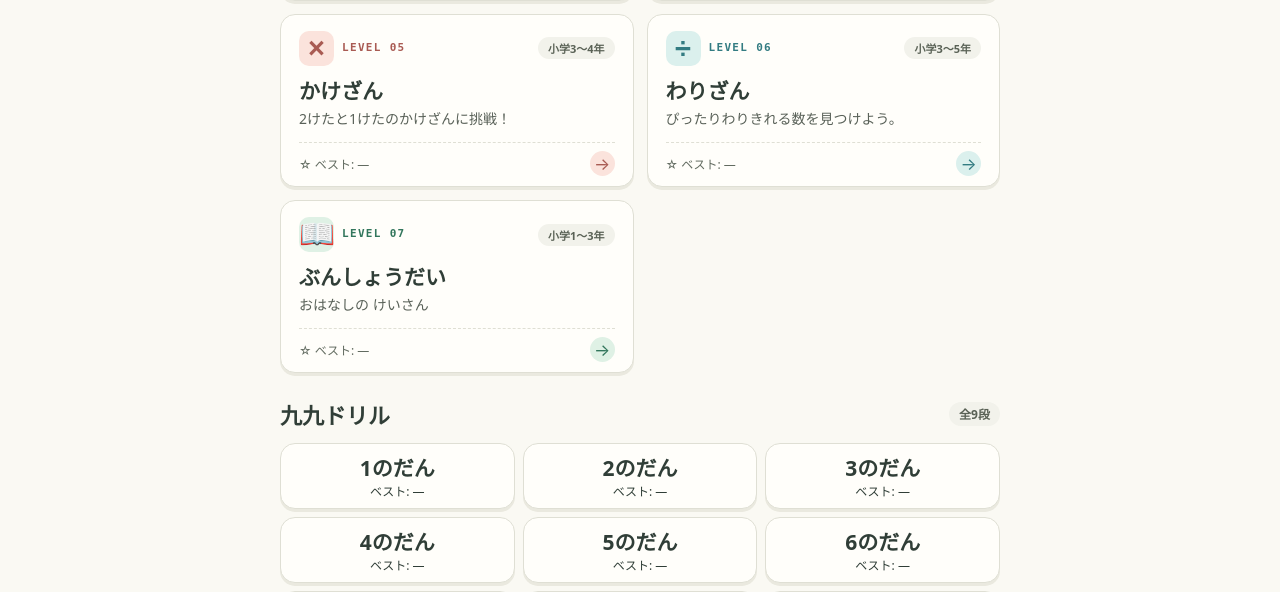
it: answers an easy word problem from the home screen
(page scrolled)
Click the button "📖 LEVEL 07 小学1〜3年 ぶんしょうだい おはなしの けいさん ☆ ベスト: — →" at (316, 234), box [280, 200, 634, 373]
(page scrolled)
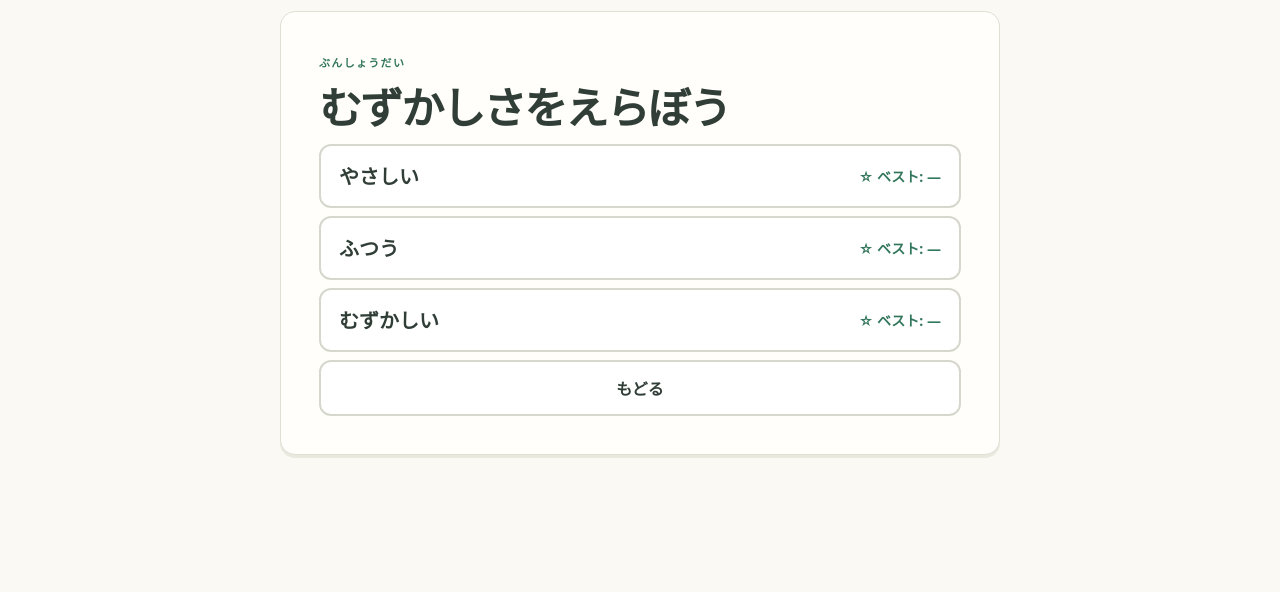
Click the button "やさしい ☆ ベスト: —" at (379, 177), box [319, 144, 961, 208]
(page scrolled)
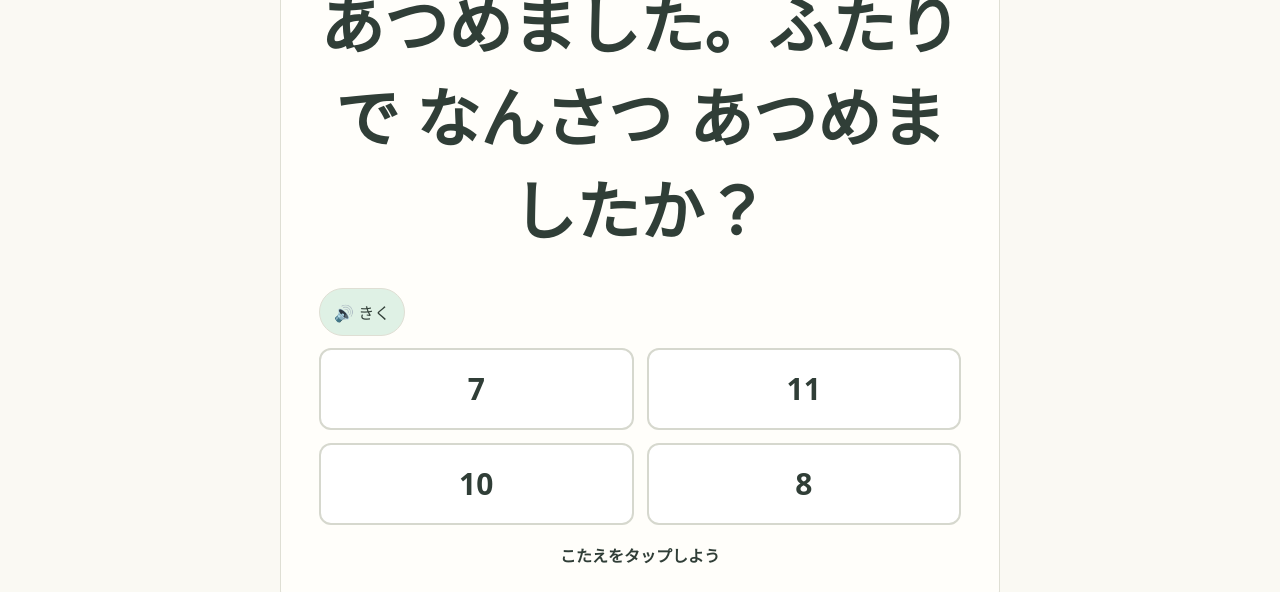
Click the button "8" at (804, 484), box [646, 443, 961, 525]
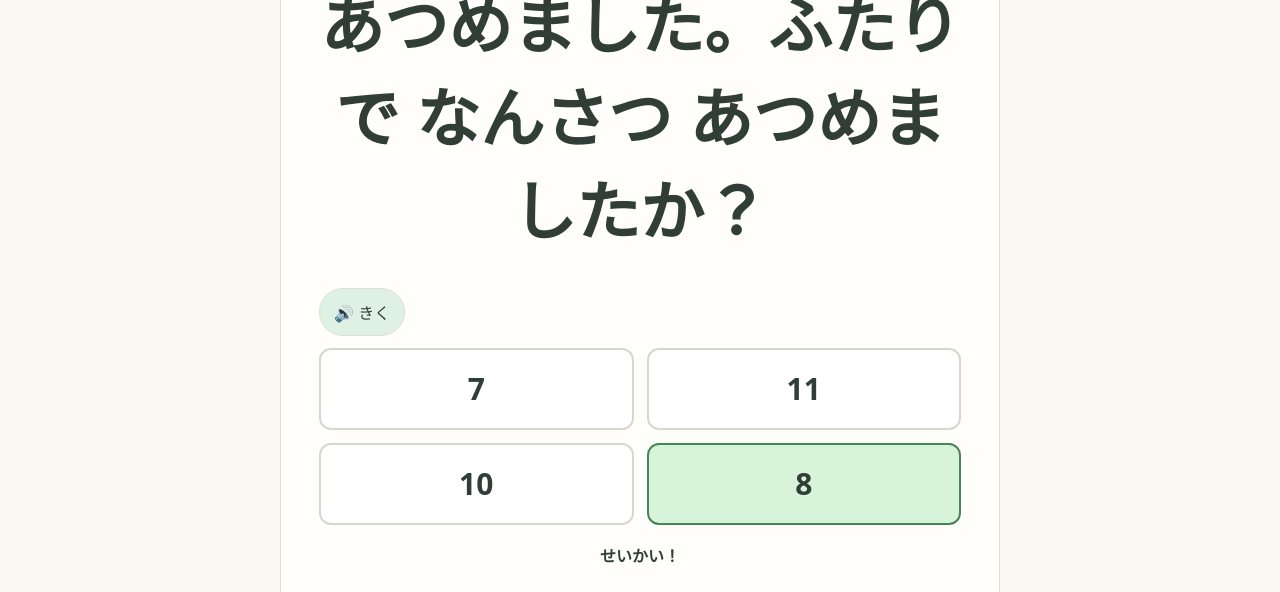
Result: the message reads "せいかい！" at [600, 545, 680, 567]
